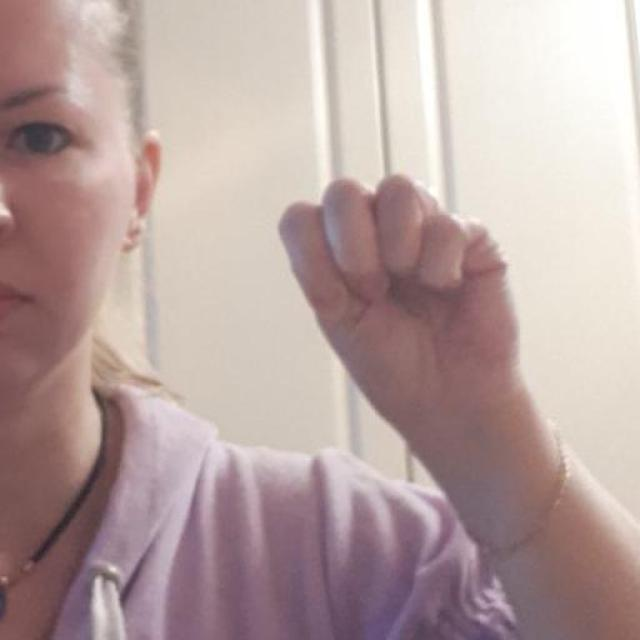hand: (276, 171, 569, 554)
